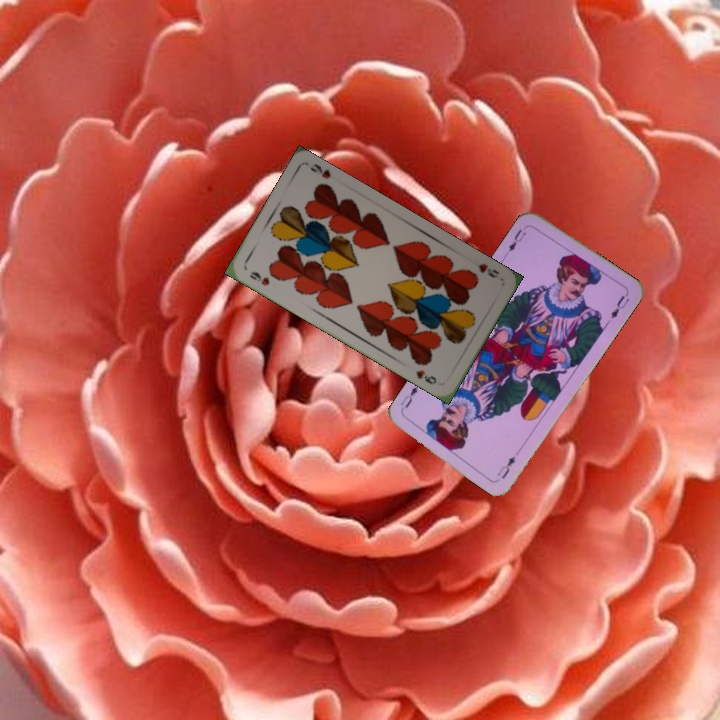EU: (502, 225, 529, 258), (494, 452, 518, 482)
H9: (474, 259, 502, 281), (245, 267, 273, 289)
